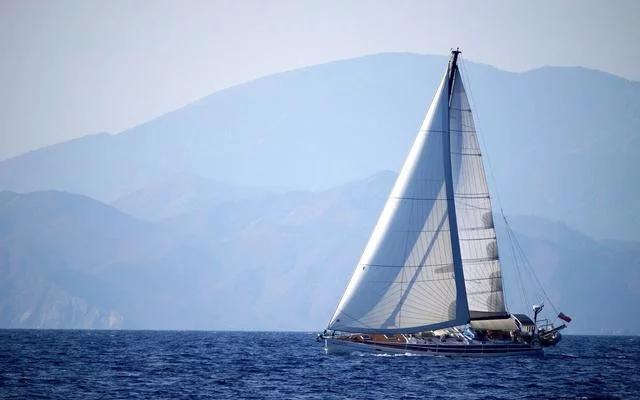fanchuan: (316, 45, 574, 361)
